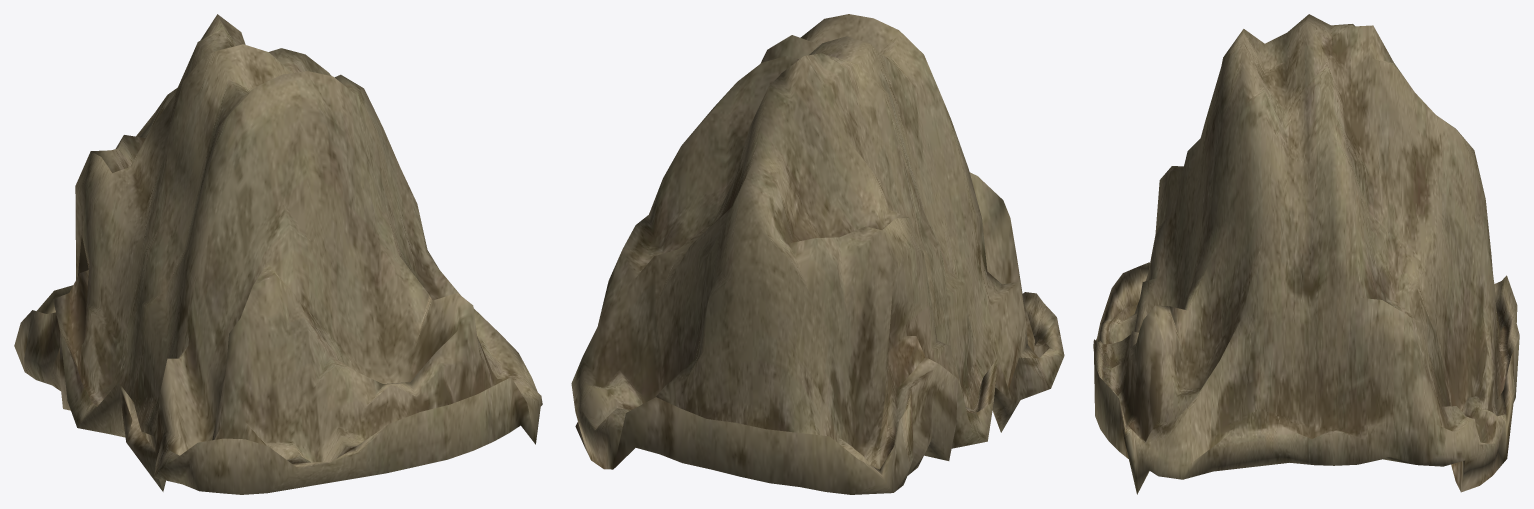
File: sandbags.glb
3 renders of one model, left to right at view 1: azimuth 30°, elevation 25°; view 2: azimuth 150°, elevation 25°; view 3: azimuth 270°, elevation 25°, orthographic. The views are drawn at different scales.
Parts seen in each view (by area): view 1: base; view 2: base; view 3: base.
Part boxes in pixels (box(x1,y1,x2,y2)): base: box(14, 14, 542, 494); base: box(571, 14, 1064, 494); base: box(1093, 14, 1519, 494).
Bounding box in the file's own units: 1 × 1 × 1.
1 material, 1 textured.
